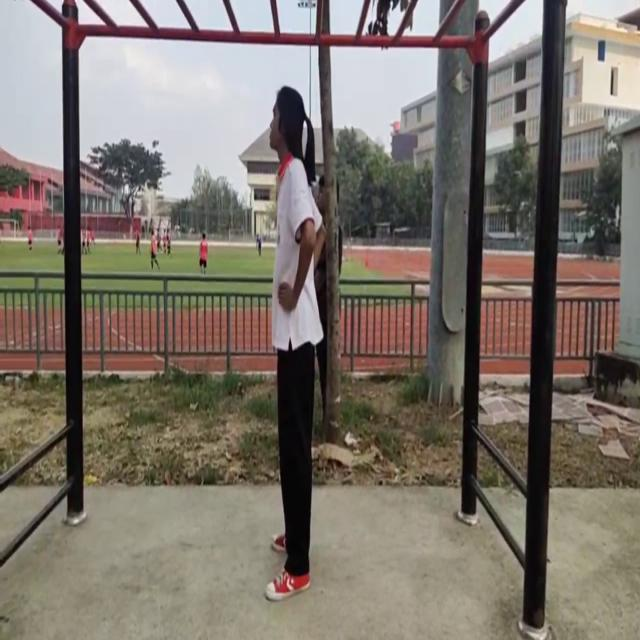stand: (264, 88, 326, 601)
